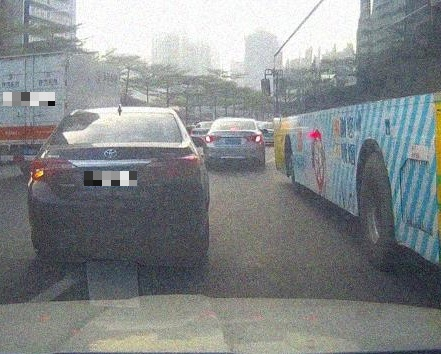L_light: (29, 157, 79, 183), (206, 135, 220, 142)
R_light: (143, 155, 199, 182), (248, 134, 262, 142)
T_light: (98, 137, 124, 143), (228, 127, 240, 130)
day-brake: (205, 117, 265, 170)
day-left: (27, 107, 204, 268)
plate_1: (3, 92, 55, 106)
plate_2: (84, 171, 137, 186)
